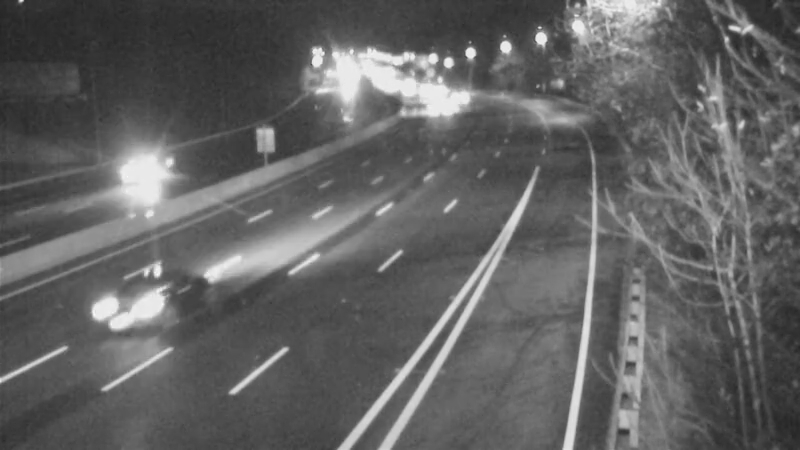vehicle: (74, 258, 184, 368), (99, 129, 179, 209), (406, 65, 456, 115), (435, 72, 485, 122), (413, 80, 463, 130), (400, 73, 450, 123)
